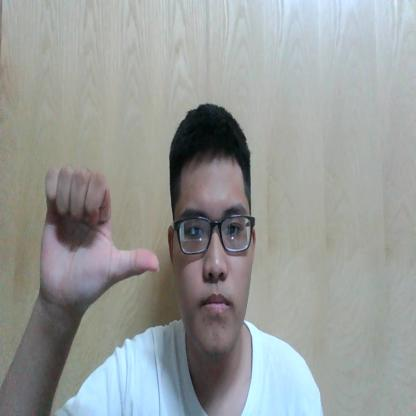left: (40, 165, 162, 316)
